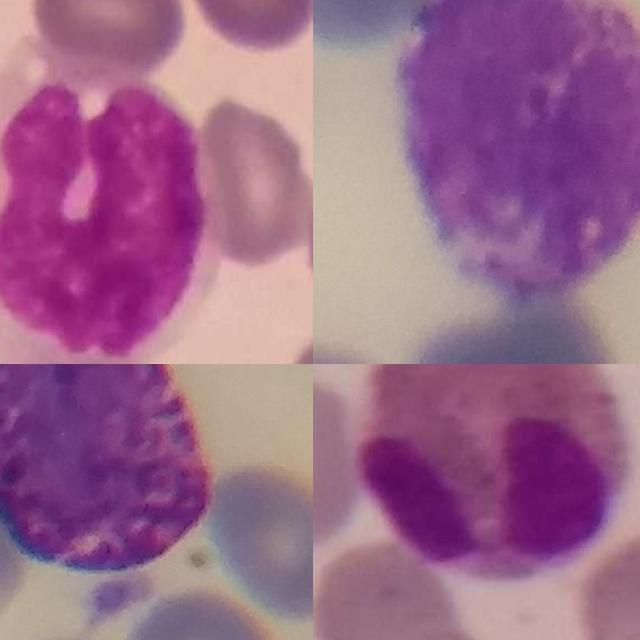Basophil: (398, 0, 640, 301), (0, 364, 213, 569)
Eosinophil: (351, 364, 636, 585)
Monocyte: (0, 69, 206, 364)
